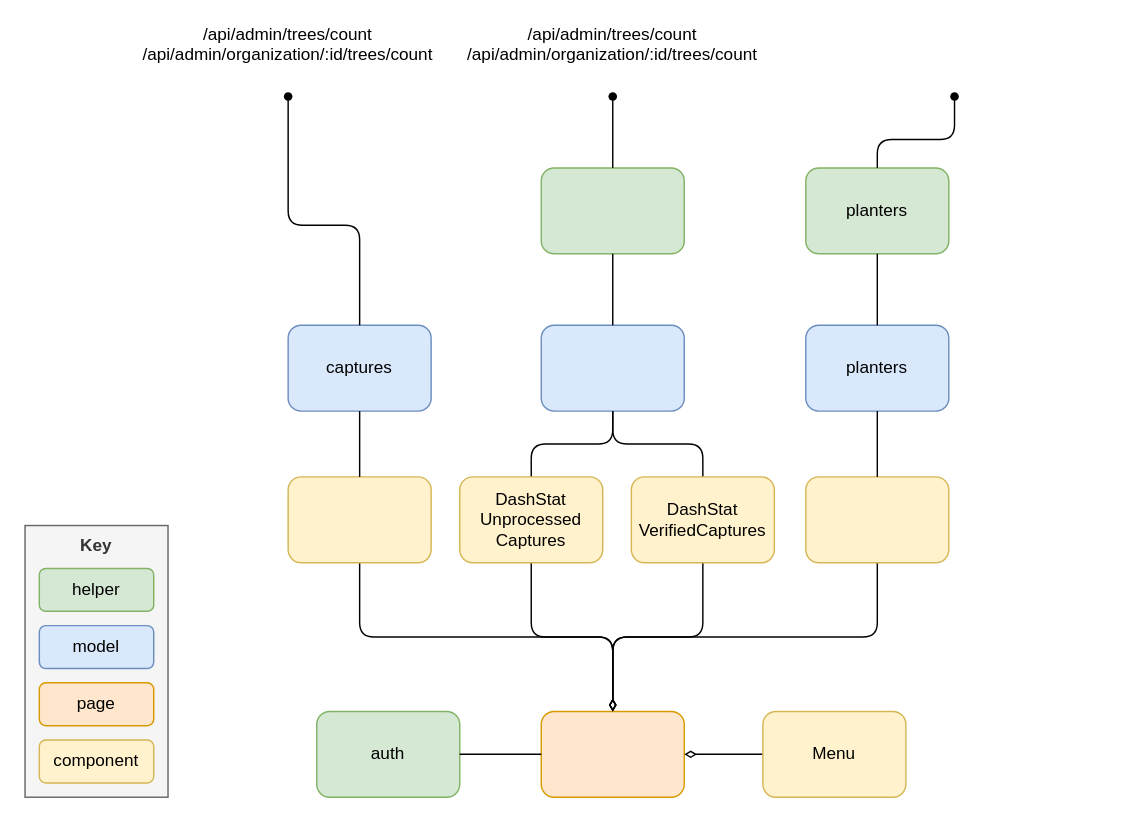
Some shapes in this 1133 by 822 pixel diagram are drawn without their labels. The centre of each missing label's shape, as x and y in pixels:
"/api/admin/planter/count /api/admin/organization/:id/planter/count" belongs at point (953, 95).
"DashStat PlanterCount" belongs at point (876, 519).
"DashStat TotalCaptures" belongs at point (359, 519).
"Home" belongs at point (612, 753).
"treeTrackerApi" belongs at point (612, 210).
"verify" belongs at point (612, 367).
